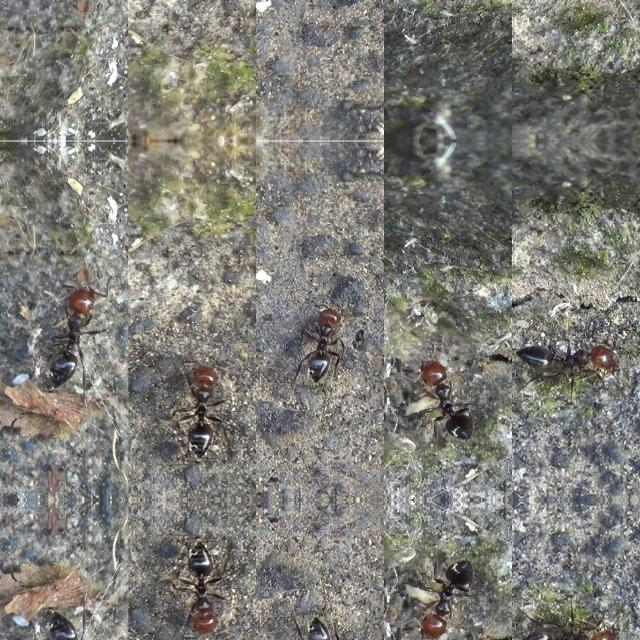Crematogaster: (164, 354, 230, 466), (42, 282, 106, 394), (164, 533, 229, 640), (520, 333, 626, 395), (296, 294, 356, 388), (414, 348, 476, 438), (414, 561, 476, 640), (519, 604, 626, 640), (41, 604, 106, 640), (296, 610, 355, 640)
